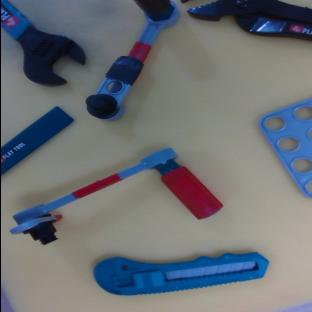non_pass: (1, 141, 223, 249)
